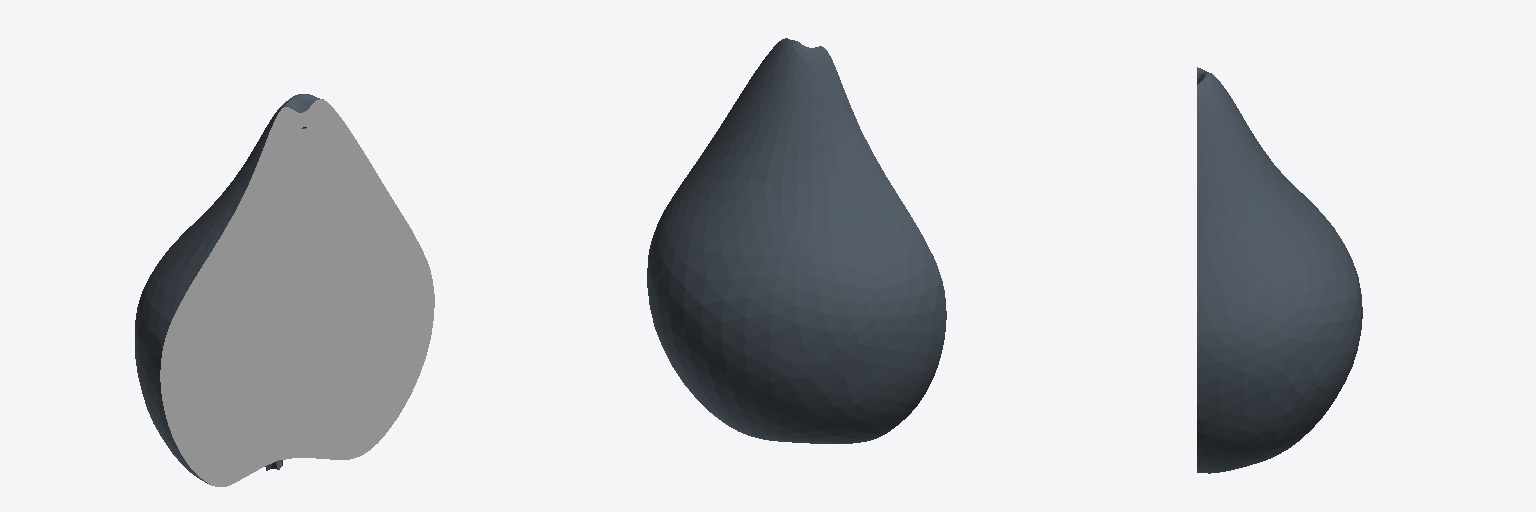
File: pear_half2.obj
3 views of the same model, side by side, from view 1: azimuth 30°, elevation 25°; view 2: azimuth 150°, elevation 25°; view 3: azimuth 270°, elevation 25° (orthographic).
Visible parts, largest first — view 1: Pear_Bosc_Stem02, Pear_Bosc_Smith02; view 2: Pear_Bosc_Smith02; view 3: Pear_Bosc_Smith02.
Boxes of the visible parts, box(x1,y1,x2,y2) form: Pear_Bosc_Stem02: box(160, 99, 434, 486); Pear_Bosc_Smith02: box(135, 94, 323, 484); Pear_Bosc_Smith02: box(647, 38, 946, 443); Pear_Bosc_Smith02: box(1197, 67, 1362, 473).
Bounding box in the file's own units: 52.35 × 67.75 × 27.33.